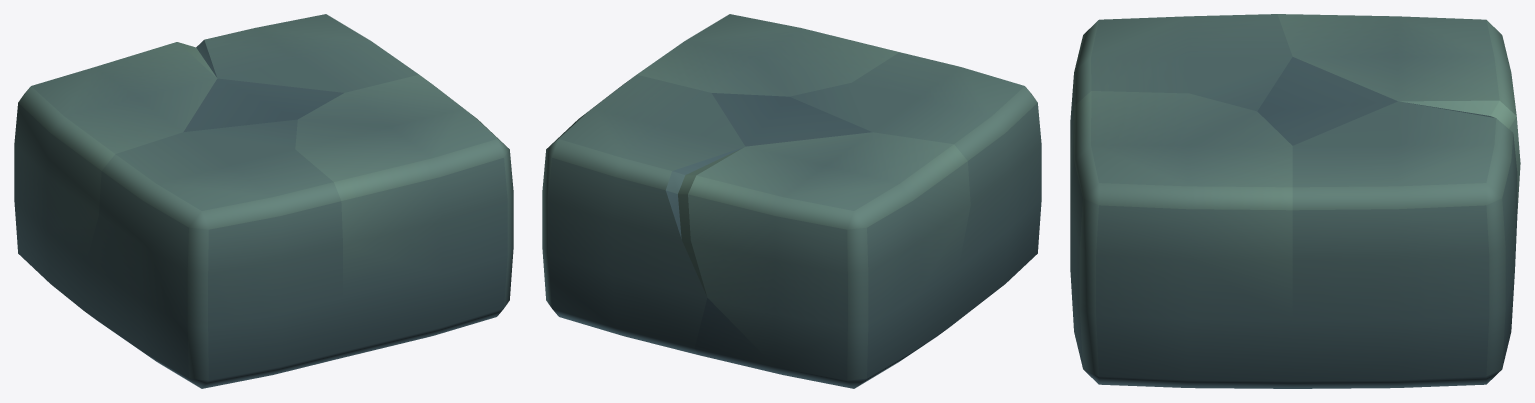
File: cube_06_shade_3_LOD_setup.fbx
3 renders of one model, left to right at view 1: azimuth 30°, elevation 25°; view 2: azimuth 150°, elevation 25°; view 3: azimuth 270°, elevation 25°, orthographic. The views are drawn at different scales.
Visible parts, largest first — view 1: cube_06_shade_3_LOD0; view 2: cube_06_shade_3_LOD0; view 3: cube_06_shade_3_LOD0.
Part boxes in pixels (x1,y1,x2,y2): cube_06_shade_3_LOD0: (14, 14, 513, 388); cube_06_shade_3_LOD0: (542, 14, 1041, 388); cube_06_shade_3_LOD0: (1070, 14, 1520, 388).
Size of what is drawn, in the model's own units: 219 by 110 by 219.
